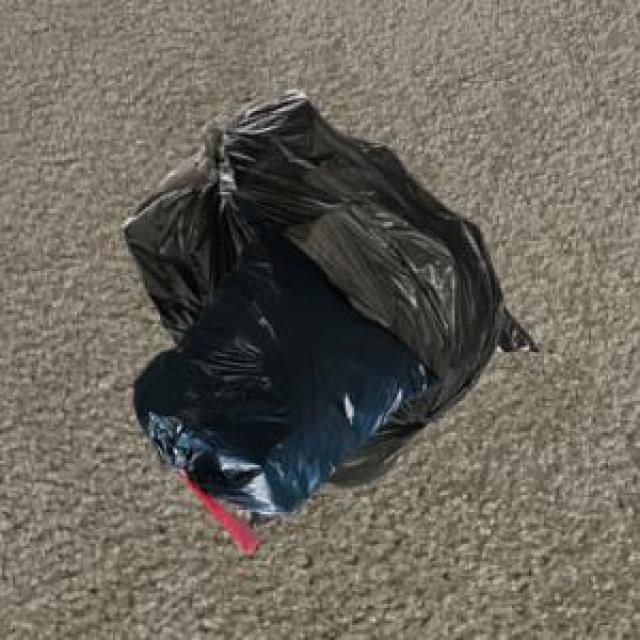Trashbag: (130, 223, 446, 515)
